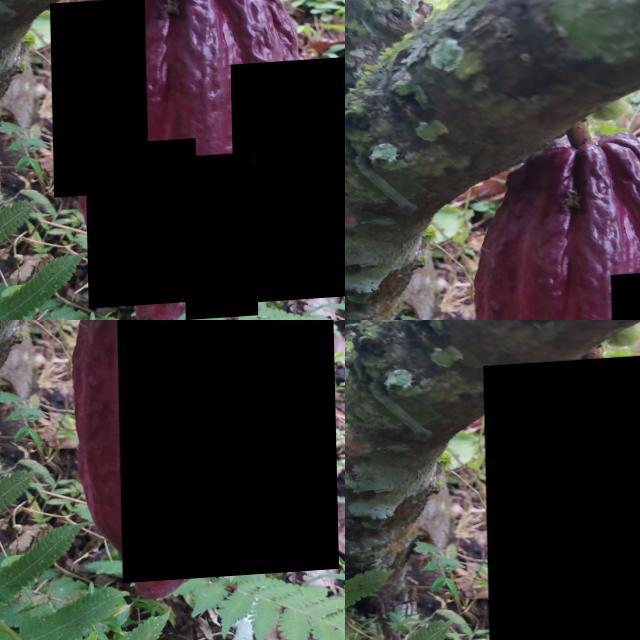Fitoftora: (229, 63, 345, 308)
Sana: (114, 320, 335, 586), (482, 356, 640, 640), (49, 1, 146, 200), (83, 142, 196, 311), (180, 157, 255, 320)
